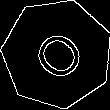O_SE: (23, 21, 91, 87)
